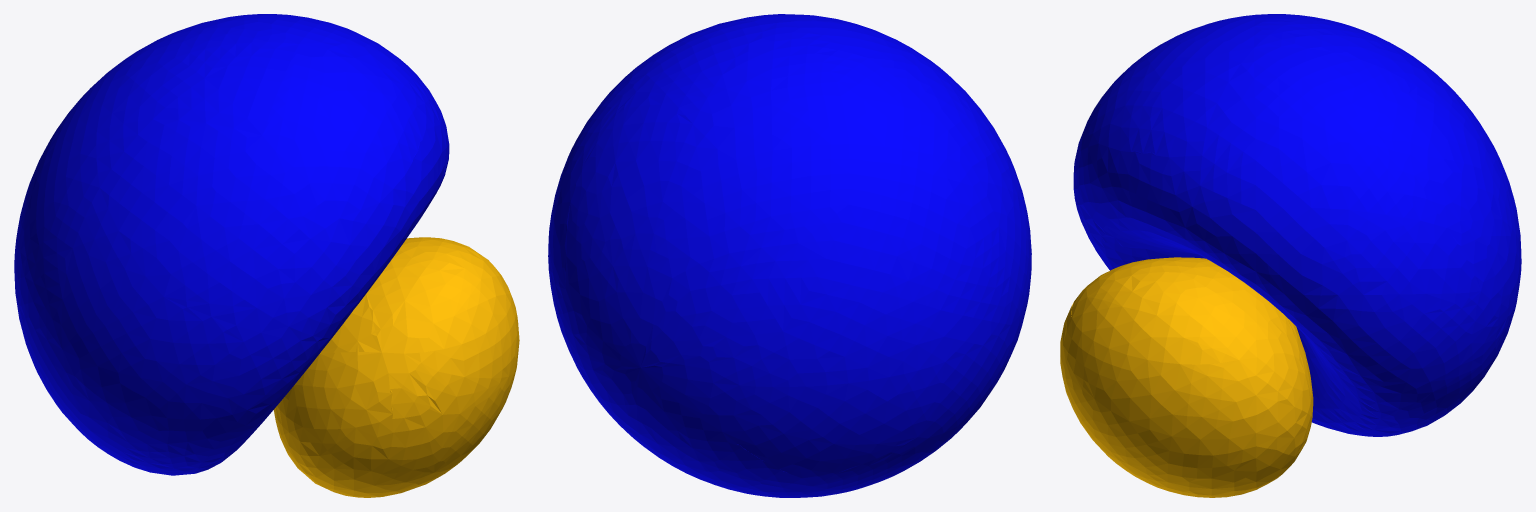
The picture shows the model from 3 angles, left to right: view 1: azimuth 30°, elevation 25°; view 2: azimuth 150°, elevation 25°; view 3: azimuth 270°, elevation 25°; orthographic projection. The views are drawn at different scales.
Size of the model in its own units: 11.83 by 11.83 by 11.82.
